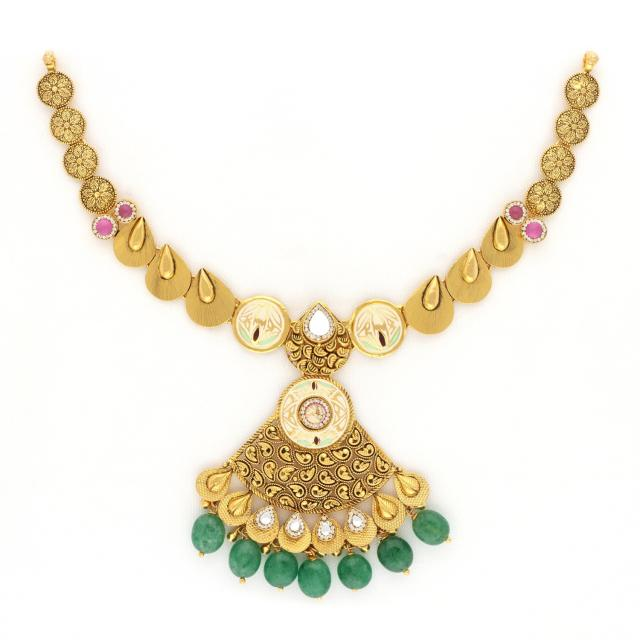missing gem: (309, 310, 330, 335)
